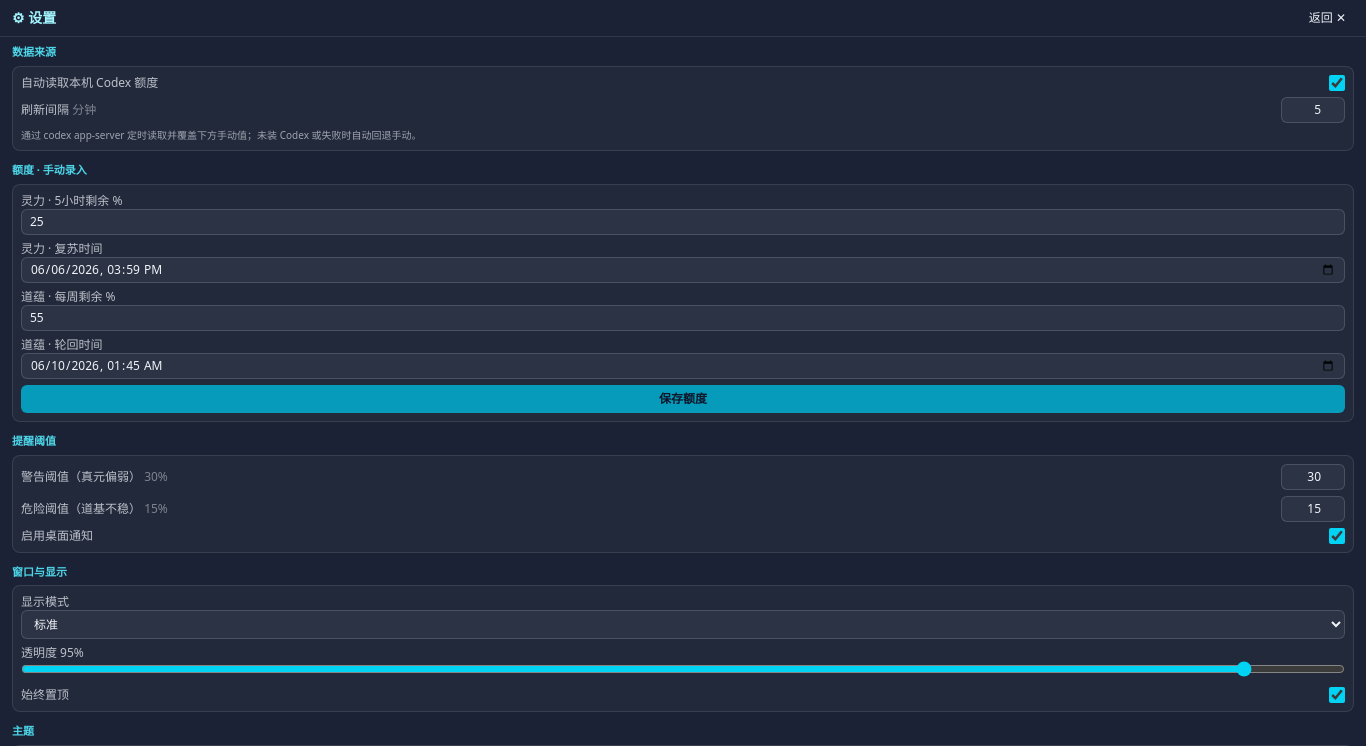
Test: SettingsPanel › rejects an out-of-range percentage
The image size is (1366, 746).
Replace the text in the field with placeholder "0–100，留空表示未知" with "150" at point(683, 222), box top-left (21, 209), bottom-right (1345, 235)
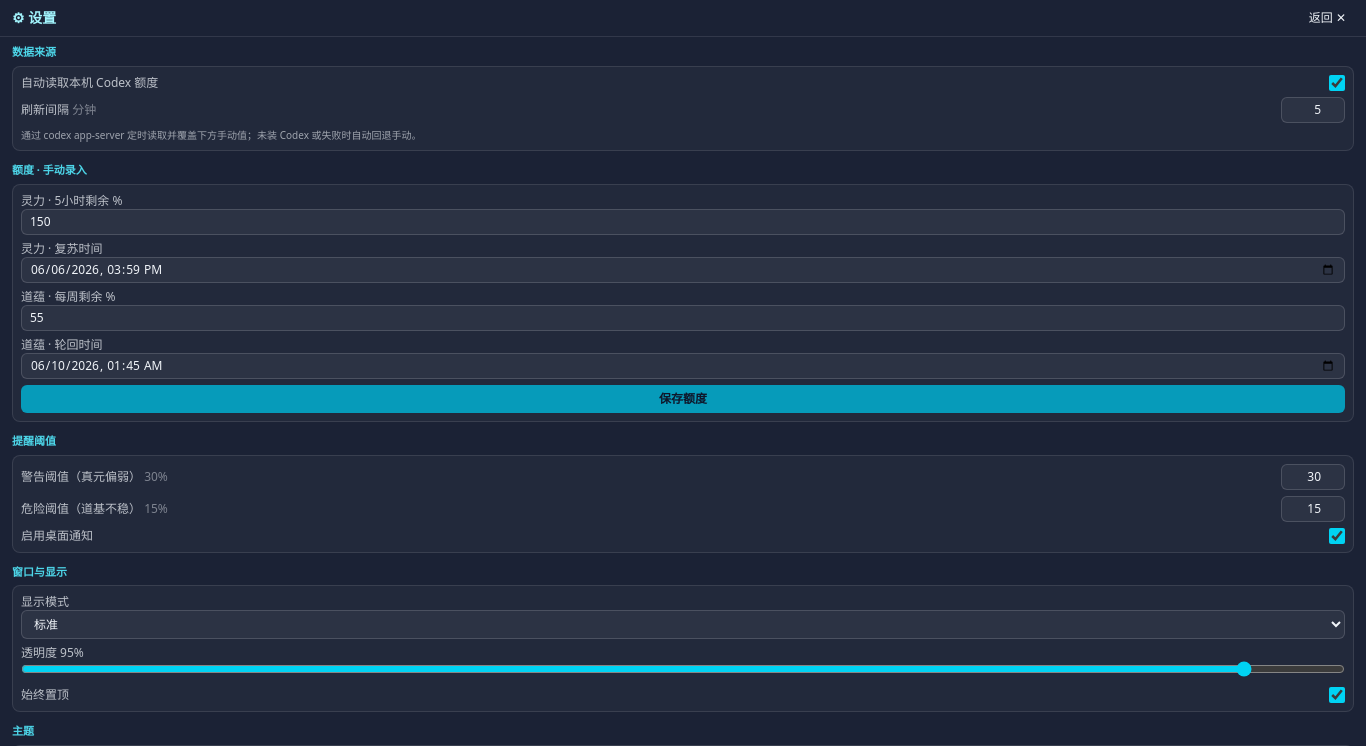
Click the button "保存额度".
click(683, 399)  # box top-left (21, 385), bottom-right (1345, 413)
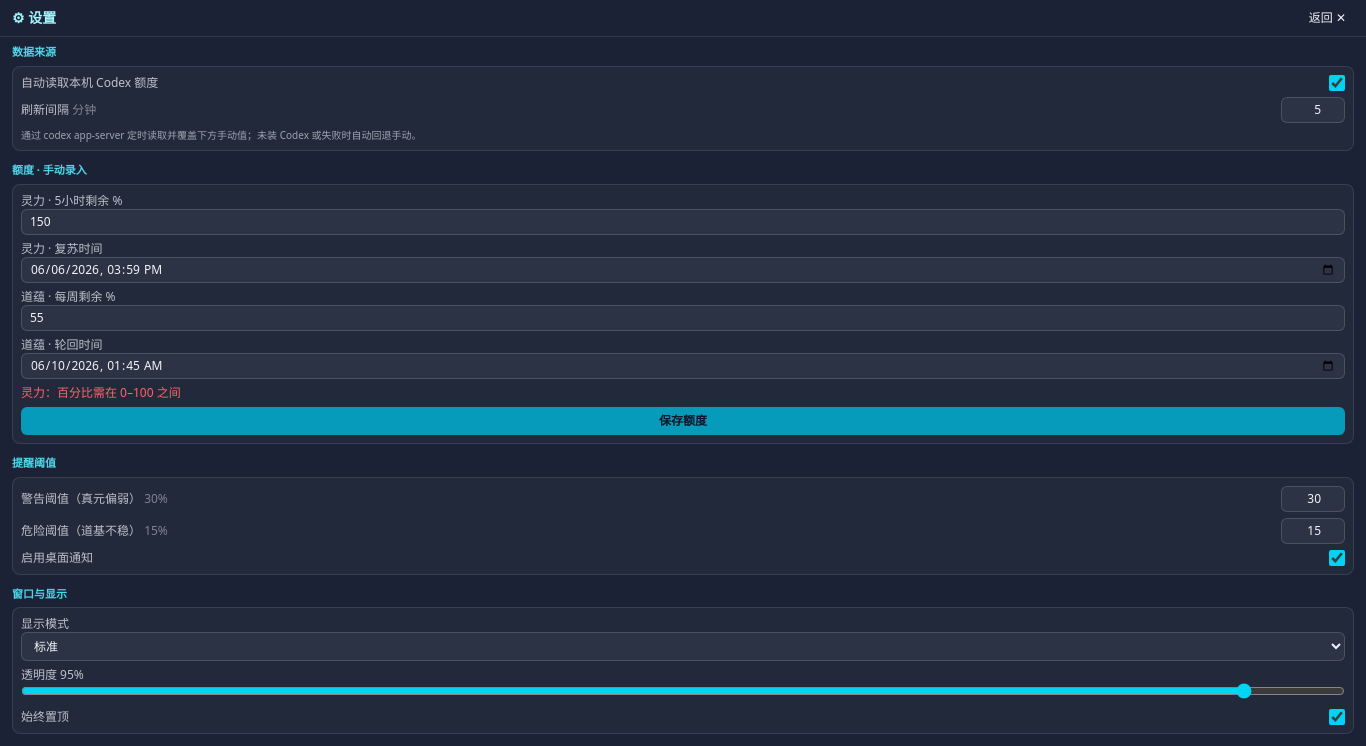
expect the text "灵力：百分比需在 0–100 之间" is shown: met, box top-left (21, 384), bottom-right (181, 401)
